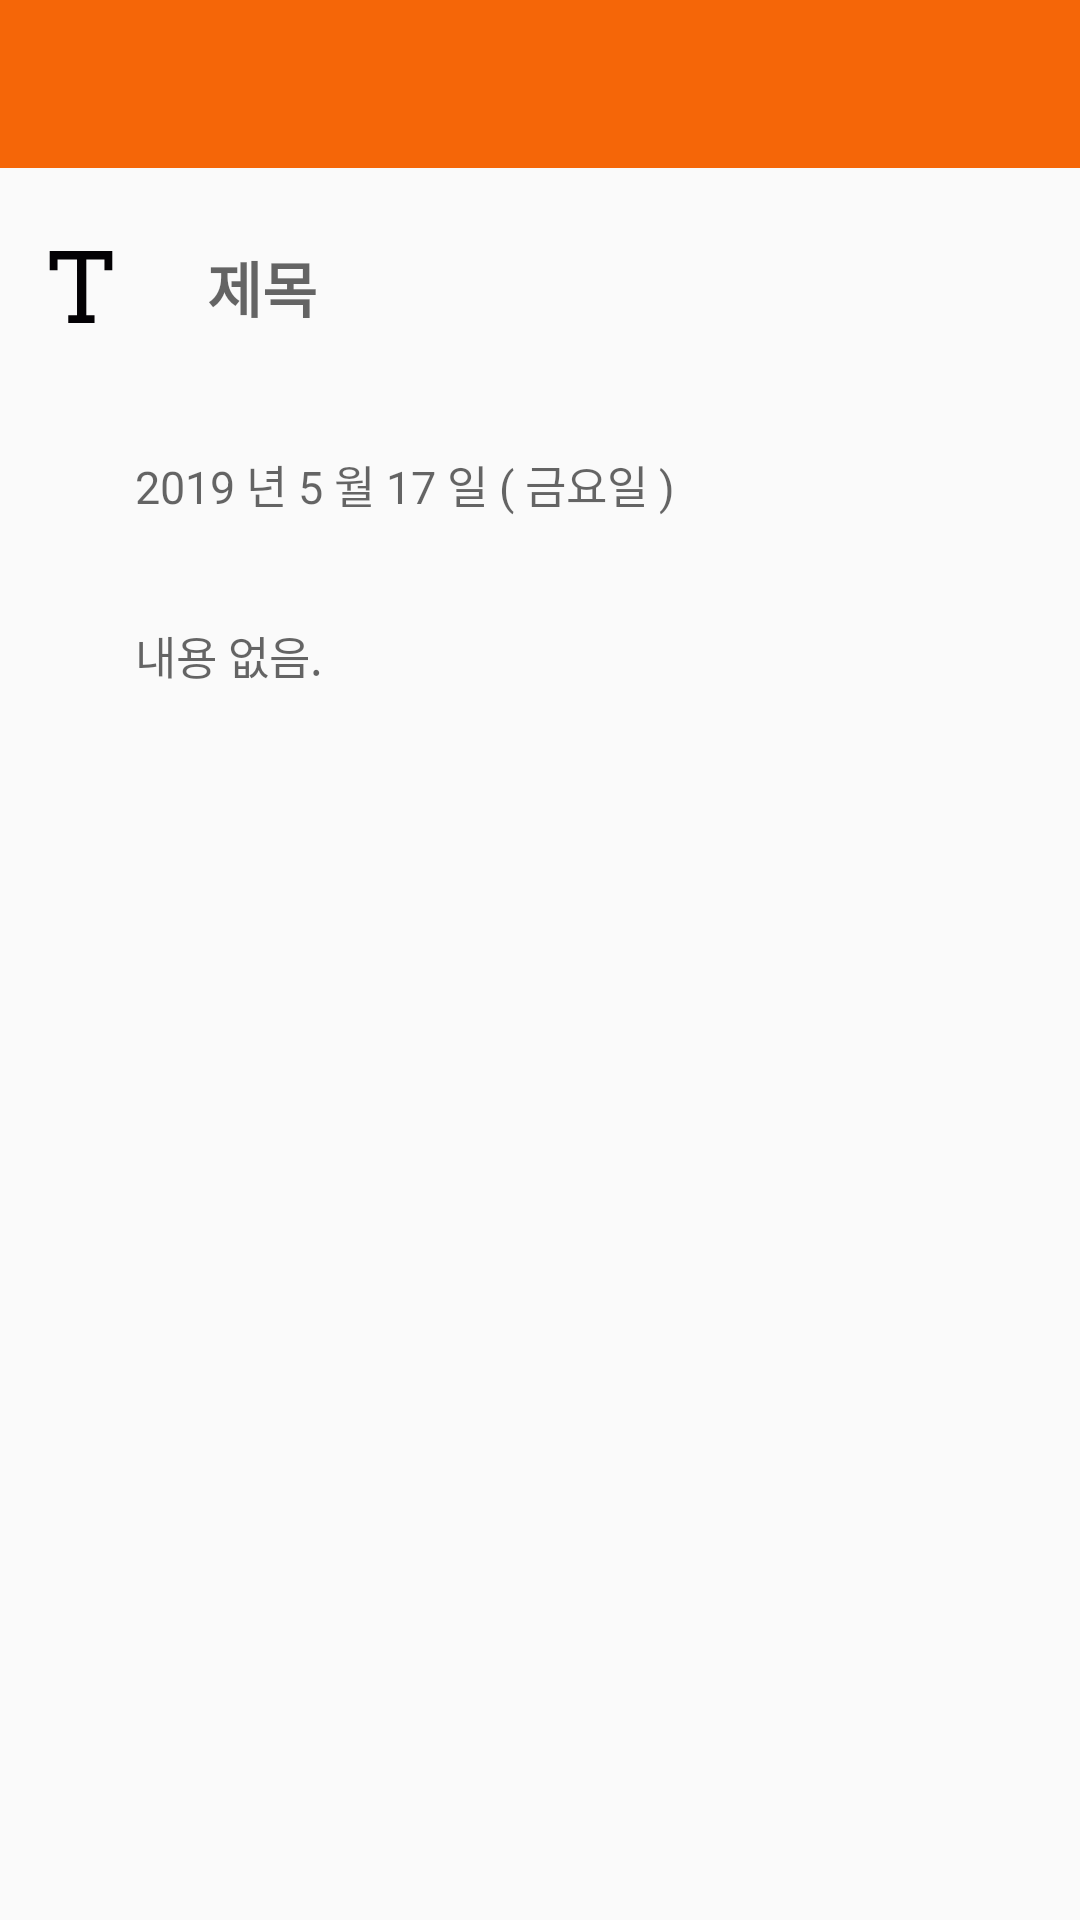

Icon bounding boxes for this 1080*1920 phone screenshot, format {"x1": x1, "y1": y1, "x2": x2, "y2": y2}:
text: {"x1": 49, "y1": 251, "x2": 113, "y2": 323}
